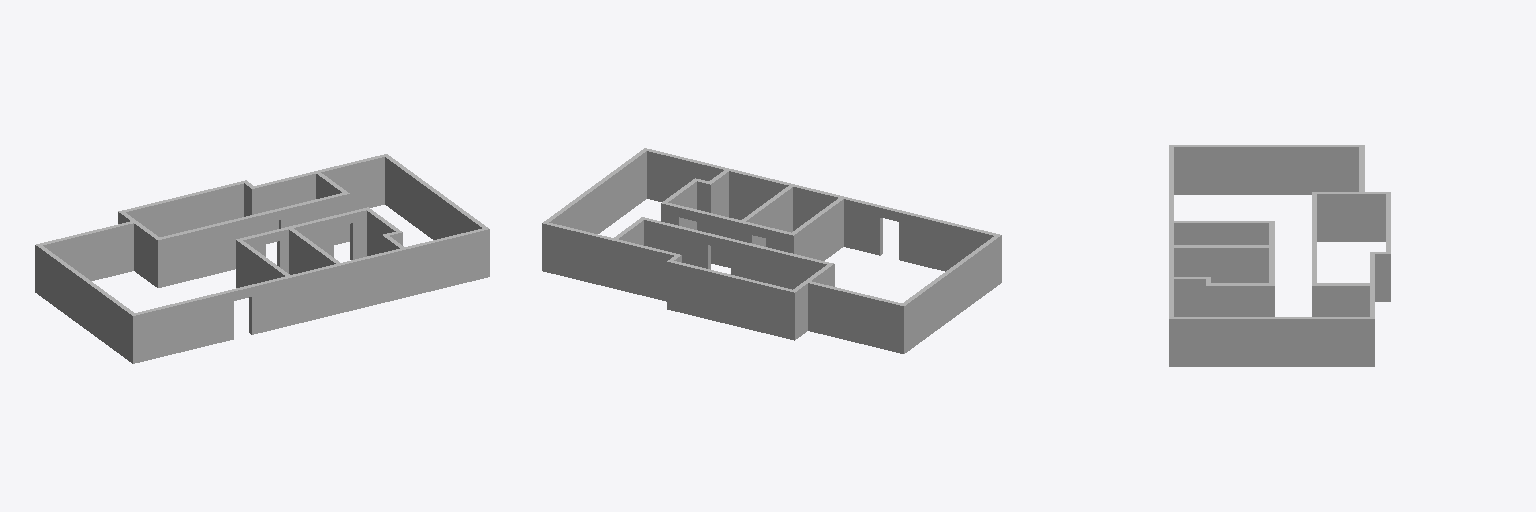
File: Walls.obj
3 renders of one model, left to right at view 1: azimuth 30°, elevation 25°; view 2: azimuth 150°, elevation 25°; view 3: azimuth 270°, elevation 25°, orthographic.
Visible parts, largest first — view 1: First_Floor_-_Walls.001; view 2: First_Floor_-_Walls.001; view 3: First_Floor_-_Walls.001.
Boxes of the visible parts, box(x1,y1,x2,y2) form: First_Floor_-_Walls.001: box(35, 154, 489, 363); First_Floor_-_Walls.001: box(542, 148, 1001, 353); First_Floor_-_Walls.001: box(1169, 145, 1390, 366).
Size of the model in its own units: 78 by 10 by 42.